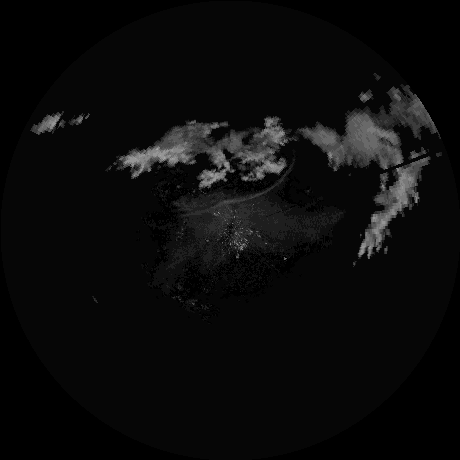frontgust: (183, 163, 294, 217)
